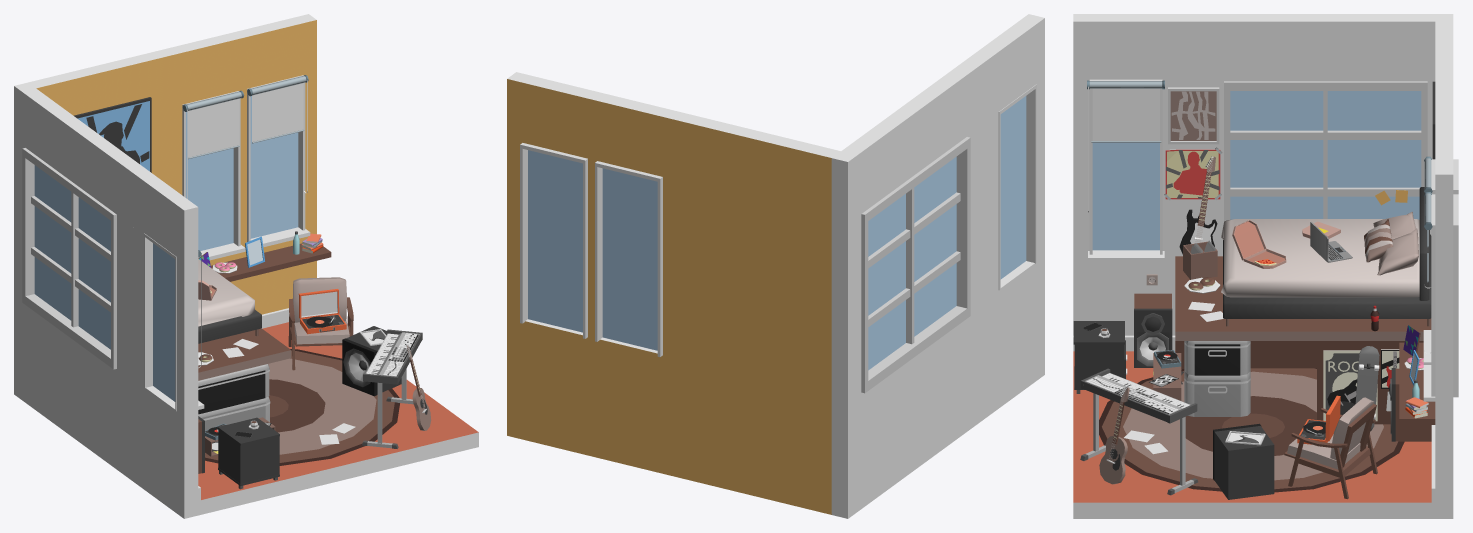
The model's file is room_5.glb.
3 views of the same model, side by side, from view 1: azimuth 30°, elevation 25°; view 2: azimuth 150°, elevation 25°; view 3: azimuth 270°, elevation 25° (orthographic). The views are drawn at different scales.
Visible parts, largest first — view 1: Walls_006.015, window_020.002, Walls_043.001, Walls_006.016, carpet_003.002, Walls_010.013, Walls_010.015, Walls_006.013, window_005.001, window_005.003, window_005.002, Walls_006.017 (+18 smaller); view 2: Walls_010.013, Walls_006.015, window_020.002, Walls_010.014, Walls_006.016, window_005.003, window_005.001, Walls_006.014, Walls_010.015, window_005.002, Walls_010.012, Walls_006.017 (+2 smaller); view 3: window_020.002, Walls_006.016, bed_017.002, Walls_043.001, carpet_003.002, shelf_064.001, window_005.002, Walls_010.012, Walls_006.013, entertainment_034.001, Curtains_026.004, Walls_006.015 (+27 smaller).
Boxes of the visible parts, x1,y1,x2,y2 form: Walls_006.015: [26, 306, 175, 512]; window_020.002: [22, 148, 116, 369]; Walls_043.001: [198, 322, 478, 515]; Walls_006.016: [26, 91, 189, 255]; carpet_003.002: [205, 349, 399, 465]; Walls_010.013: [28, 46, 183, 194]; Walls_010.015: [176, 17, 302, 103]; Walls_006.013: [176, 201, 198, 518]; window_005.001: [247, 75, 305, 241]; window_005.003: [182, 91, 240, 250]; window_005.002: [144, 233, 176, 411]; Walls_006.017: [117, 216, 143, 386]; Walls_010.013: [661, 109, 840, 514]; Walls_006.015: [862, 261, 1035, 508]; window_020.002: [861, 137, 970, 393]; Walls_010.014: [523, 319, 661, 473]; Walls_006.016: [846, 21, 1035, 213]; window_005.003: [595, 161, 662, 356]; window_005.001: [520, 143, 587, 338]; Walls_006.014: [831, 148, 861, 518]; Walls_010.015: [523, 76, 669, 176]; window_005.002: [998, 84, 1036, 290]; Walls_010.012: [507, 72, 531, 439]; Walls_006.017: [968, 115, 998, 309]; window_020.002: [1224, 81, 1427, 221]; Walls_006.016: [1091, 14, 1426, 82]; bed_017.002: [1221, 187, 1431, 326]; Walls_043.001: [1073, 351, 1435, 518]; carpet_003.002: [1099, 368, 1404, 492]; shelf_064.001: [1175, 256, 1431, 424]; window_005.002: [1089, 79, 1162, 254]; Walls_010.012: [1435, 167, 1453, 518]; Walls_006.013: [1073, 14, 1091, 335]; entertainment_034.001: [1184, 341, 1250, 416]; Curtains_026.004: [1087, 80, 1164, 212]; Walls_006.015: [1091, 251, 1222, 335].
Size of the model in its own units: 4.24 by 4.2 by 4.26.
Materials: 1 (1 with a texture image).
